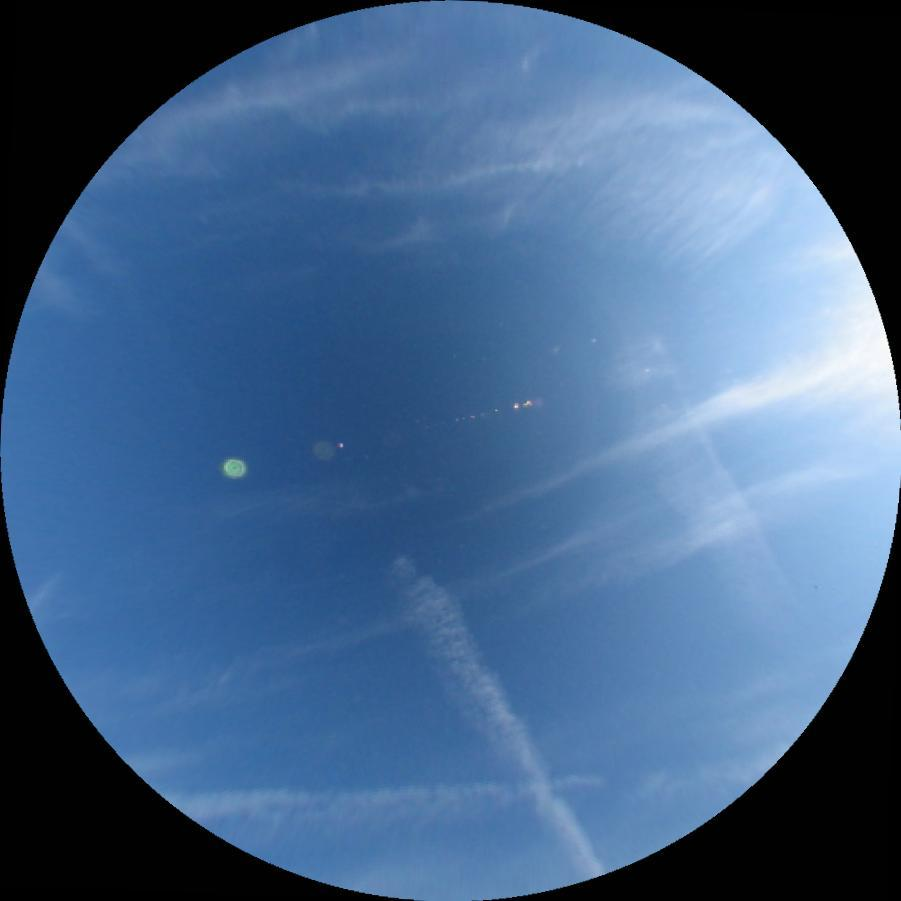contrail veryold: (383, 546, 616, 890), (591, 330, 788, 619), (167, 752, 784, 842)
